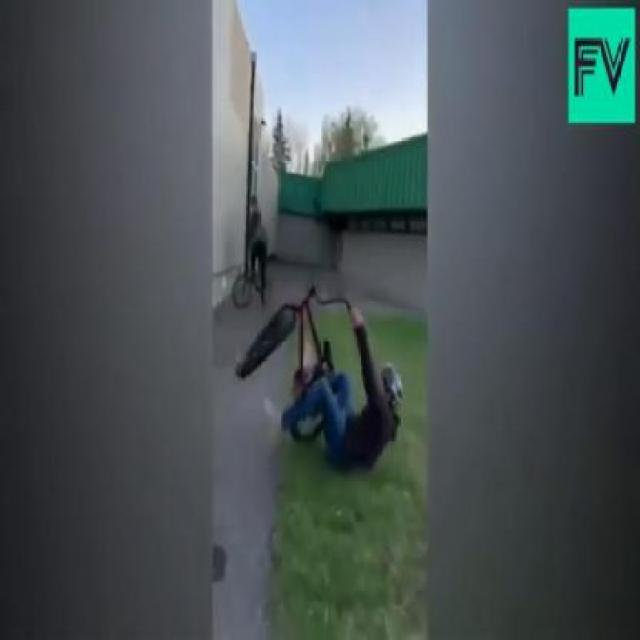fall: (282, 312, 402, 480)
